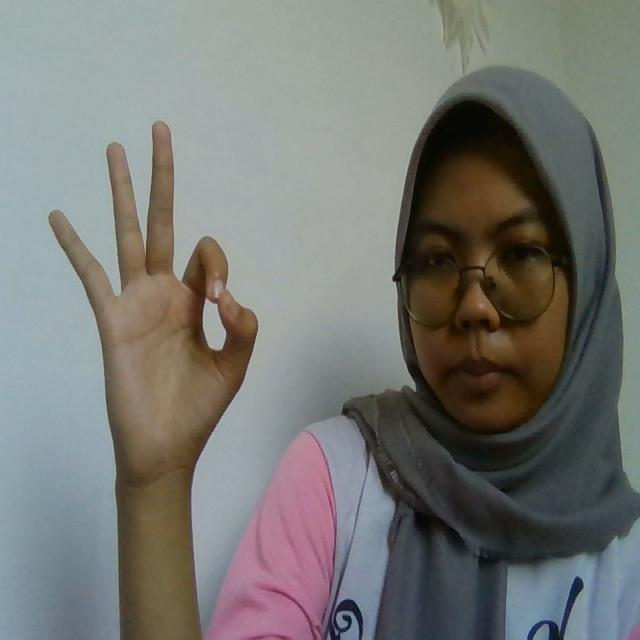F: (49, 119, 259, 473)
